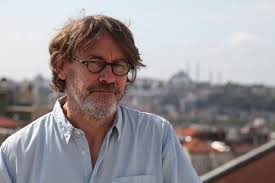middle_eastern_male: (53, 23, 140, 124)
